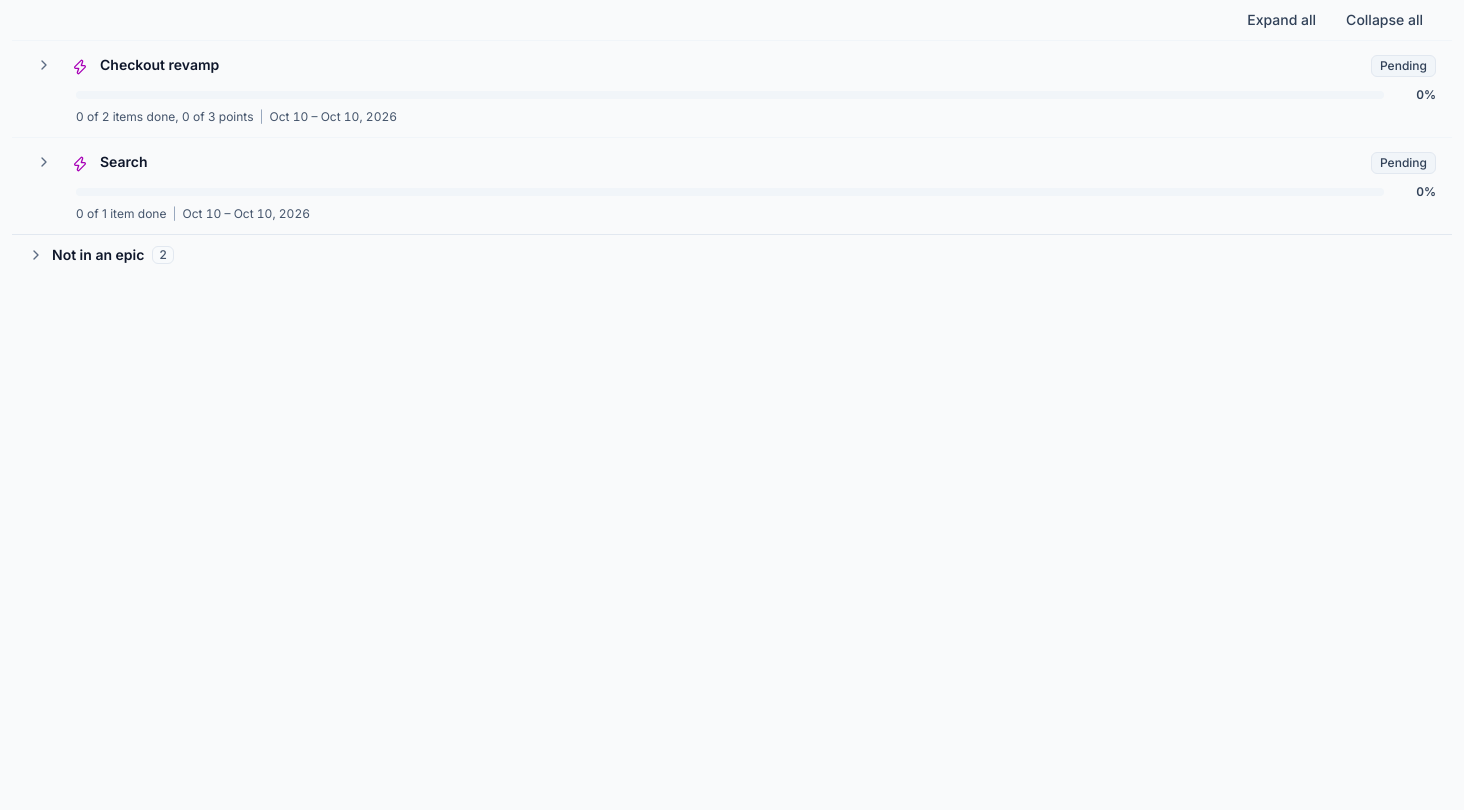
Test: epic hierarchy › shows epics collapsed, then items and subtasks as each level expands
Check: the text "Cart page" is not shown
Step 1. Click the button named "Expand items of Checkout revamp" → (44, 65), box left=28, top=49, right=60, bottom=81
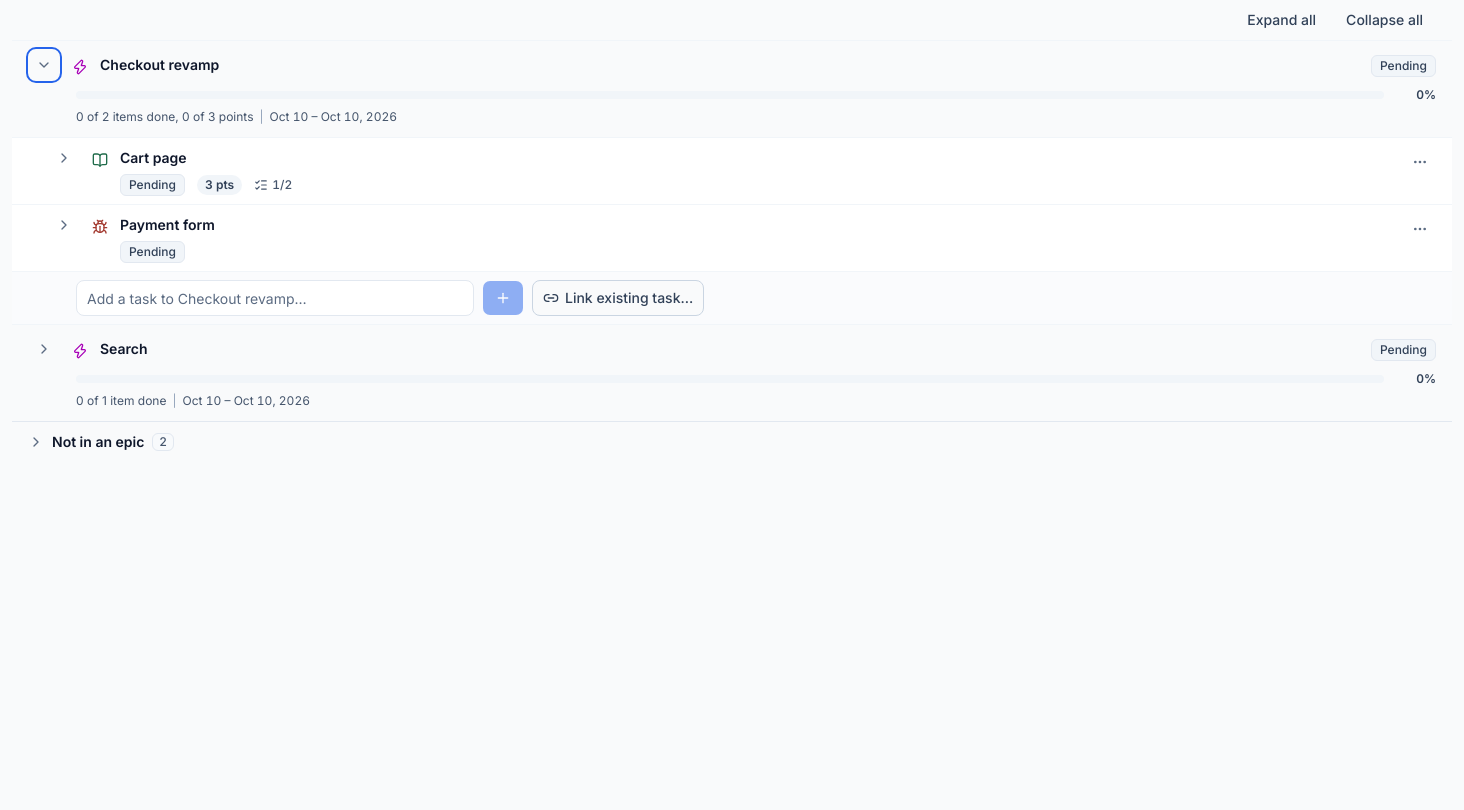
Check: the button named "Collapse items of Checkout revamp" is expanded, box left=28, top=49, right=60, bottom=81
Check: the button "Cart page" is shown, box left=120, top=148, right=187, bottom=168
Check: the button "Payment form" is shown, box left=120, top=215, right=215, bottom=235
Step 2. Click the button named "Expand subtasks of Cart page" → (64, 158), box left=48, top=142, right=80, bottom=174
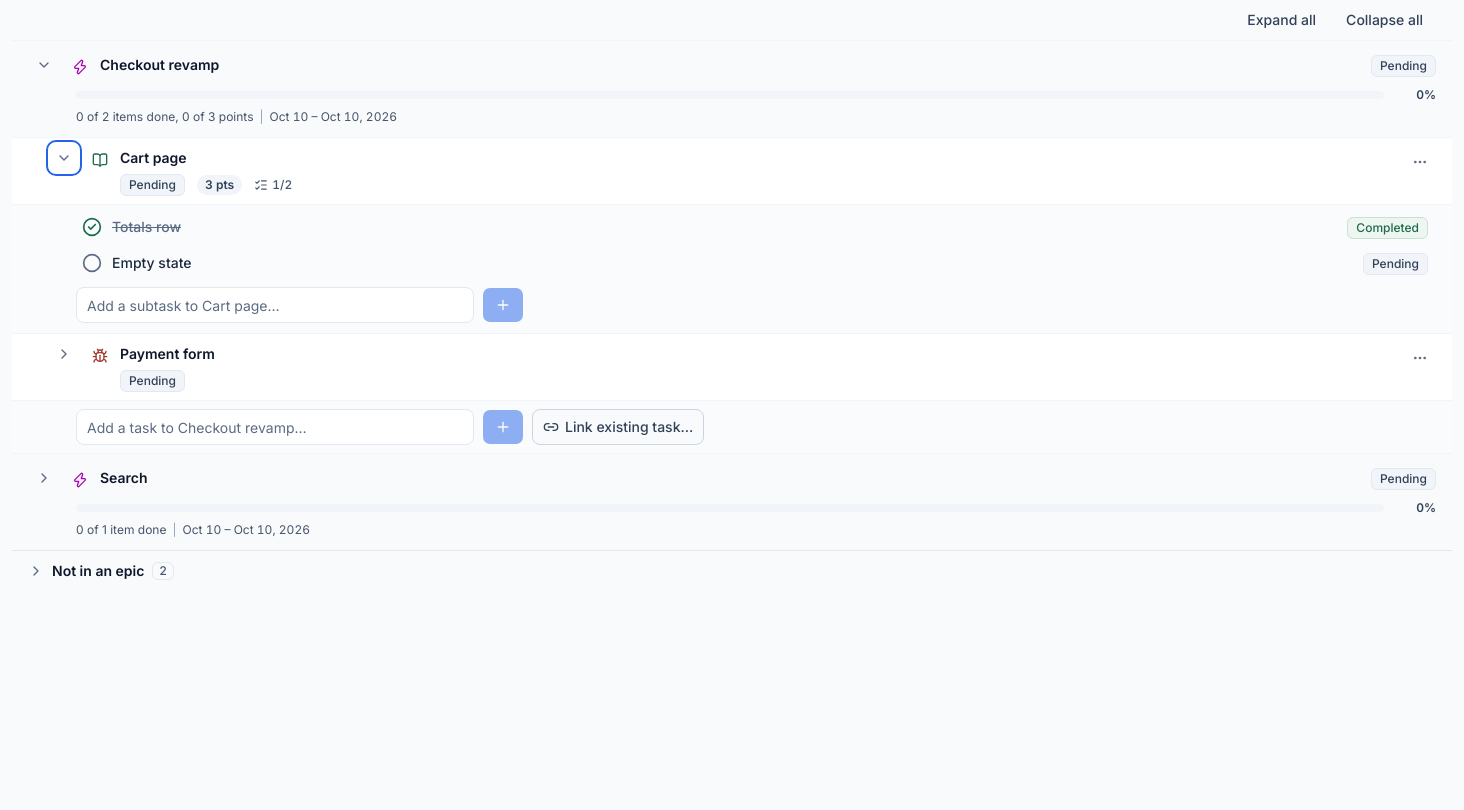
Step 3. Click the button named "Collapse items of Checkout revamp" → (44, 65), box left=28, top=49, right=60, bottom=81
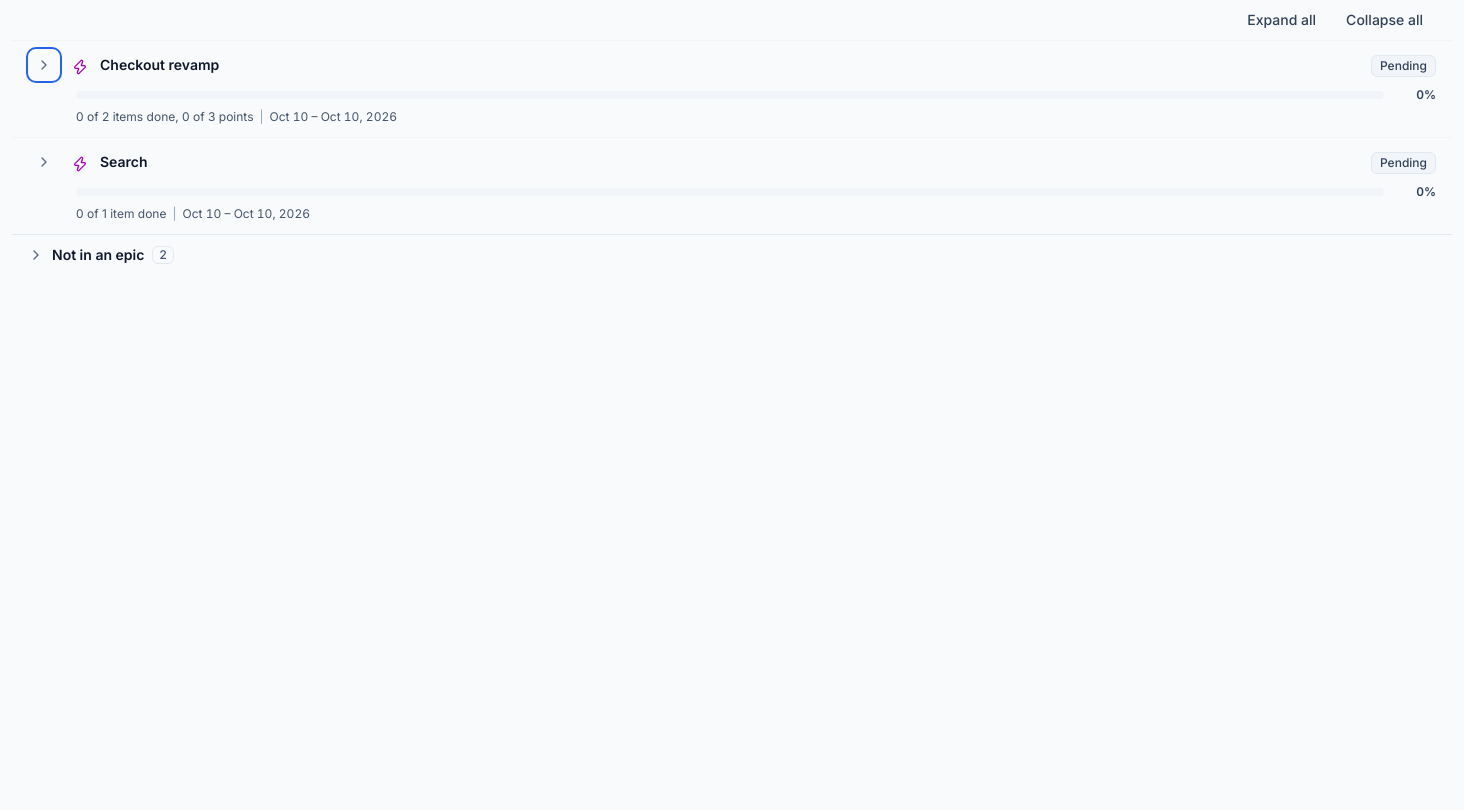
Check: the button "Cart page" is gone
